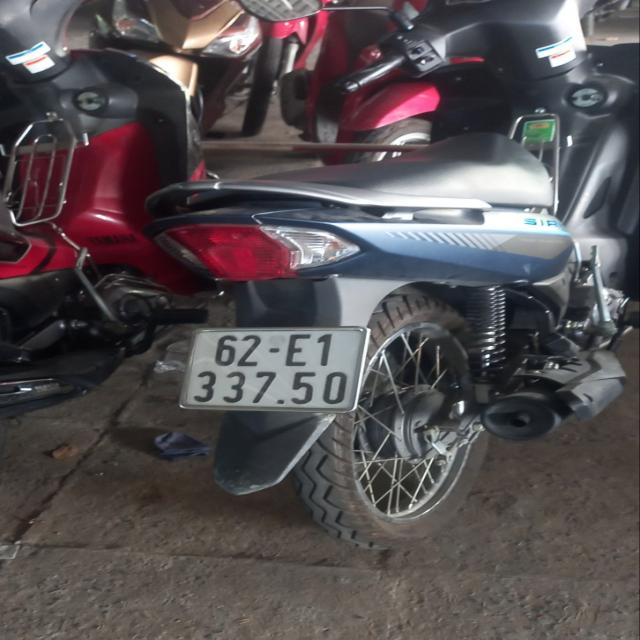0: (323, 372, 347, 406)
1: (316, 332, 332, 367)
2: (238, 334, 262, 367)
3: (222, 371, 248, 404), (194, 371, 219, 403)
5: (290, 370, 318, 404)
6: (215, 335, 240, 368)
7: (252, 372, 277, 404)
E: (285, 333, 310, 367)
